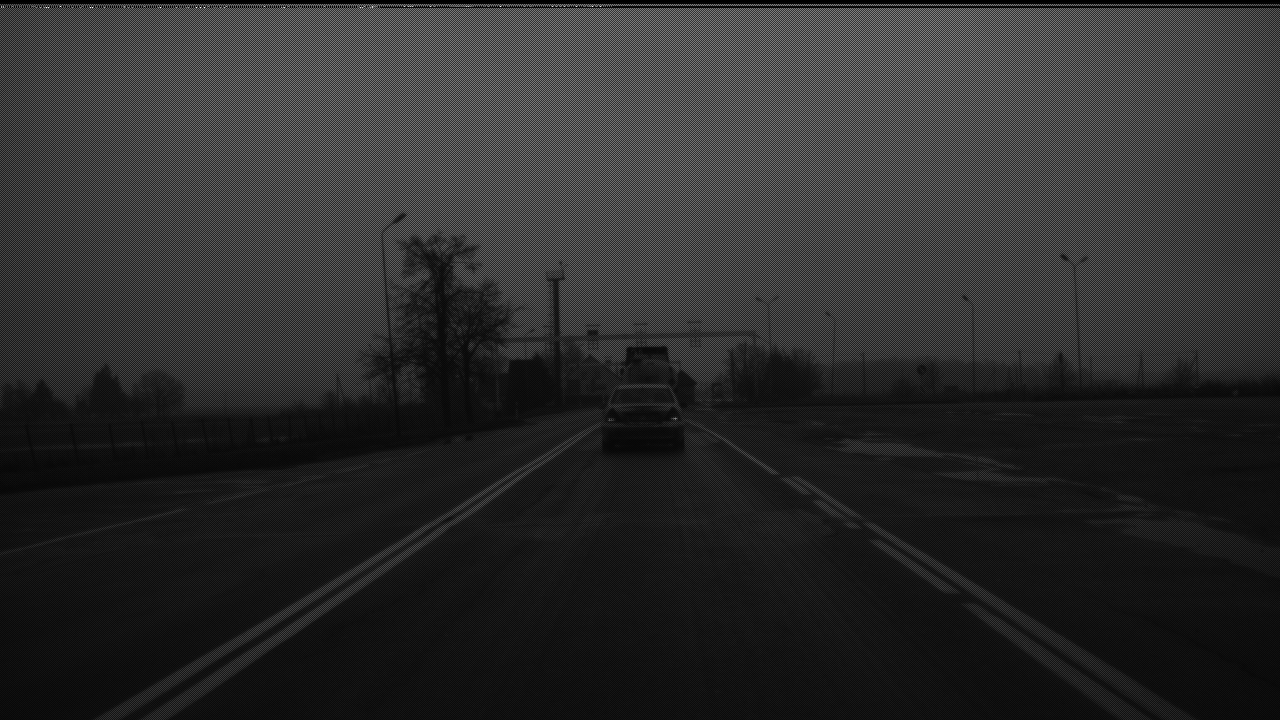pole: (382, 228, 404, 429), (551, 276, 562, 402), (1070, 263, 1080, 382), (969, 298, 974, 388)
